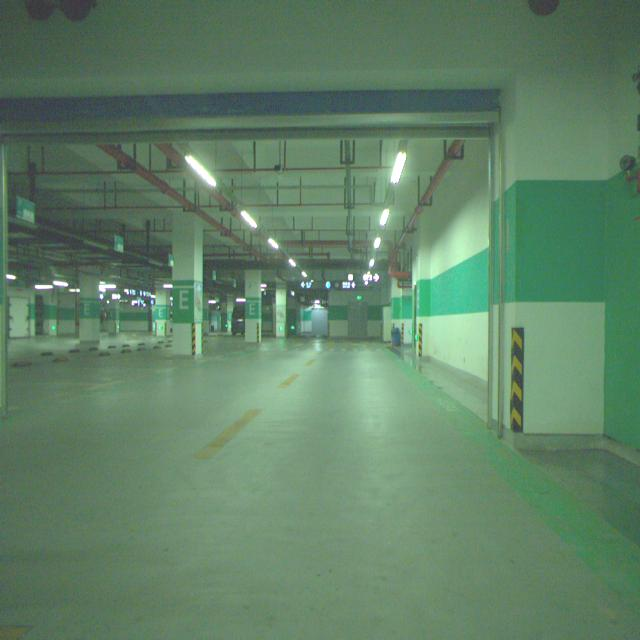pillar: (172, 212, 202, 355)
